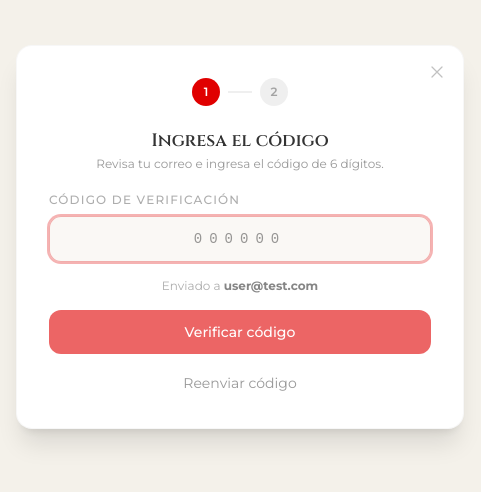
PasswordResetModal › shows error when resend code fails
Click the button "Reenviar código" at coordinates (240, 383), box [49, 373, 431, 393]
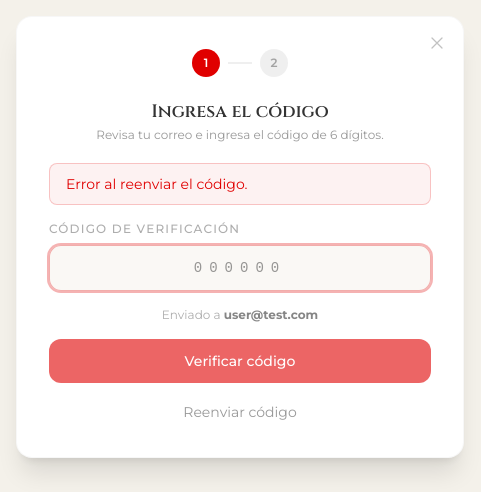
Expected: the text "Error al reenviar el código." is shown, [66, 175, 247, 193]
